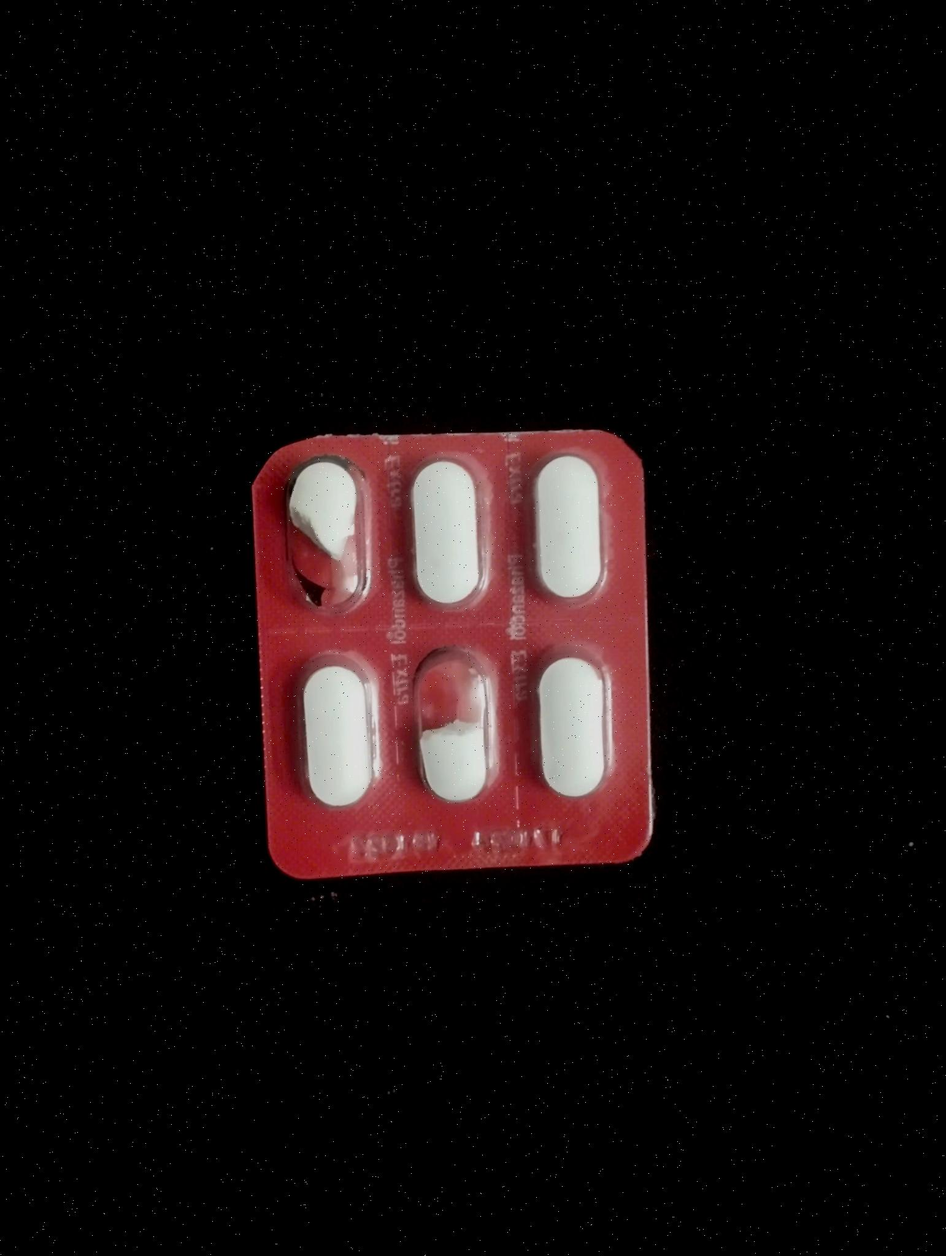Full: (403, 459, 494, 613), (290, 659, 381, 813), (525, 654, 614, 810), (522, 454, 612, 608)
Partial: (413, 641, 509, 814), (284, 449, 381, 617)
